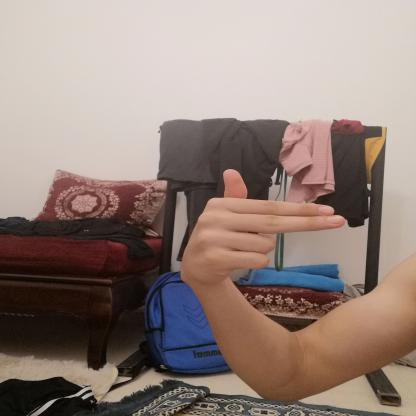GHAYN: (169, 162, 354, 291)
